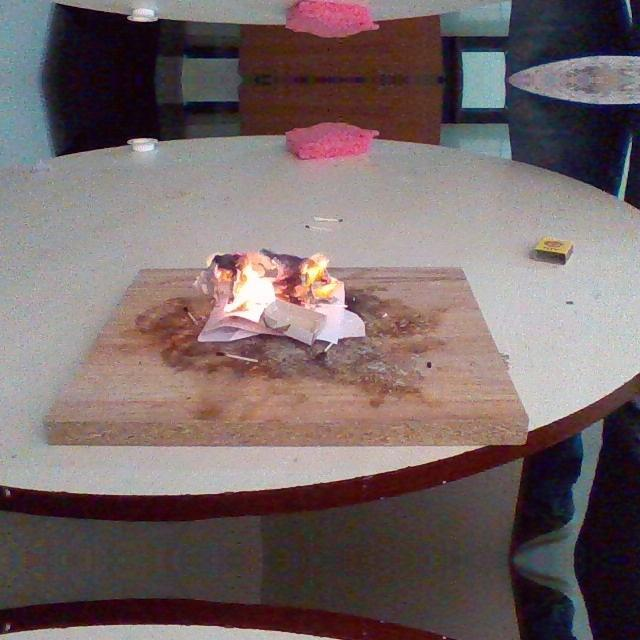smoke: (221, 262, 285, 324), (296, 250, 340, 304)
